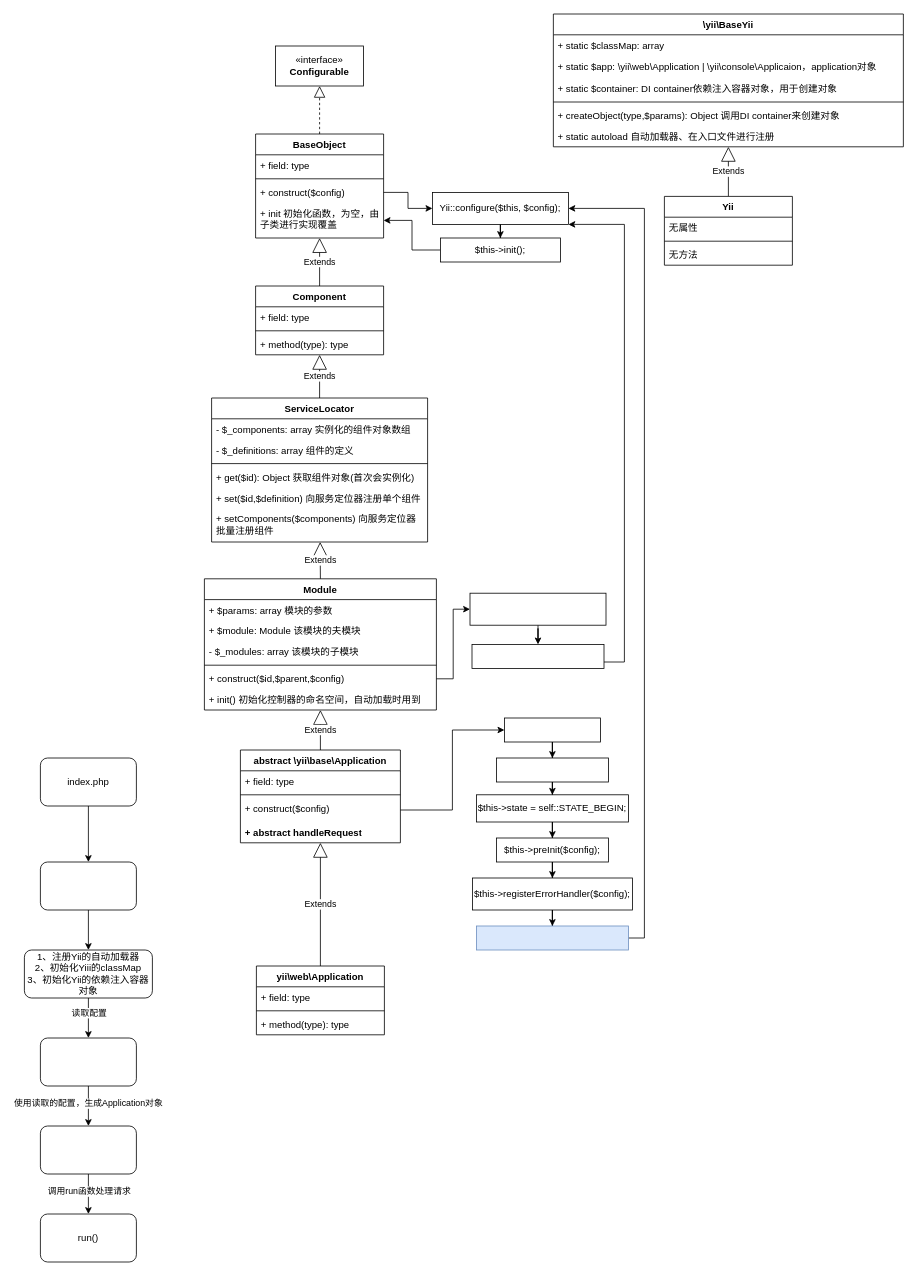
Some shapes in this 918 by 1276 pixel diagram are drawn without their labels. Here are the shapes that lost their labels. From the top down, the centre of each, then its label:
At (537,608): "$this->id = $id; $this->module = $parent;".
At (537,656): "parent::__construct($config);".
At (552,729): "Yii::$app = $this;".
At (552,769): "static::setInstance($this);".
At (88,885): "注册composer的自动加载器".
At (552,937): "Component::__construct($config);".
At (88,1061): "$config".
At (88,1149): "new yii\web\Application($config)".
